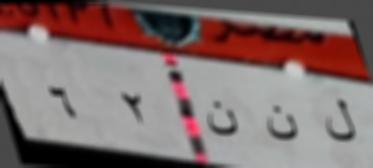2: (116, 86, 153, 128)
6: (41, 78, 86, 122)
laam: (319, 95, 360, 148)
noon: (264, 100, 302, 154), (203, 96, 247, 138)
